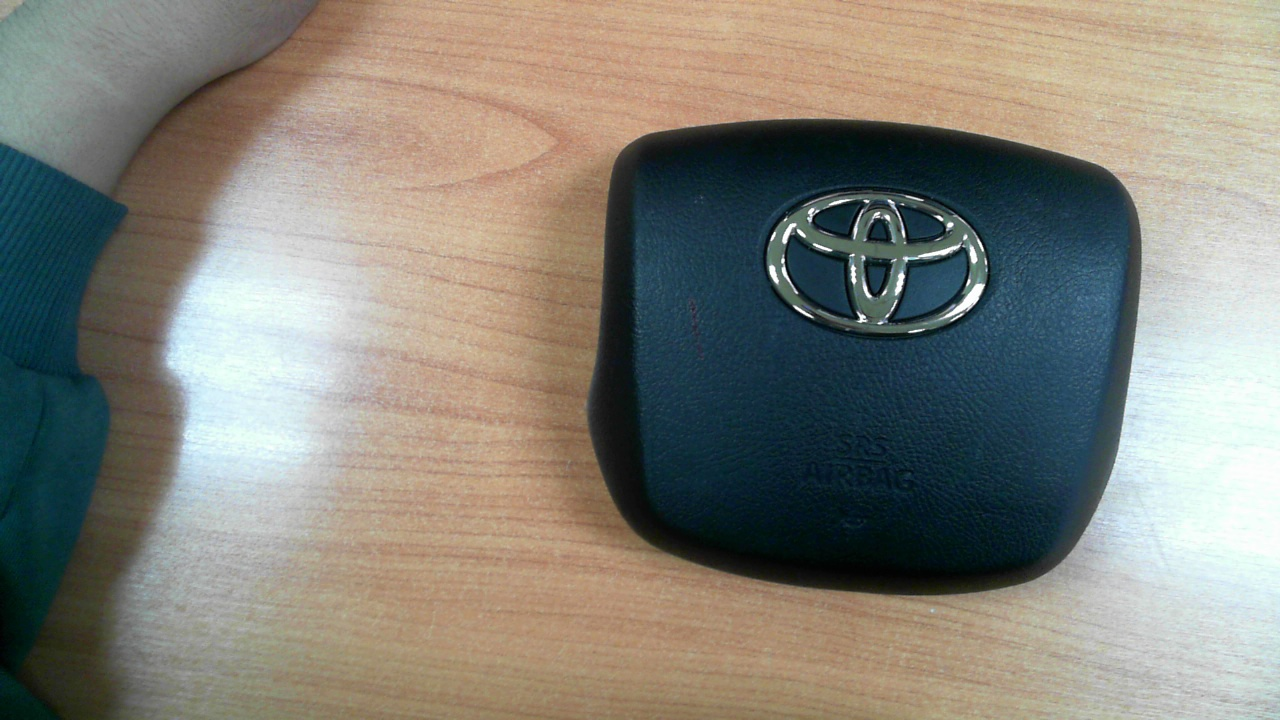Airbag: (591, 121, 1148, 595)
Toyota: (766, 189, 989, 334)
